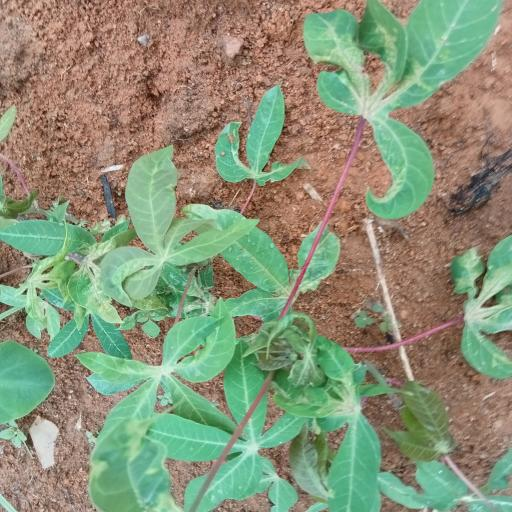Cassava_Mosaic: (299, 0, 512, 225), (61, 304, 237, 512), (448, 236, 512, 386)
